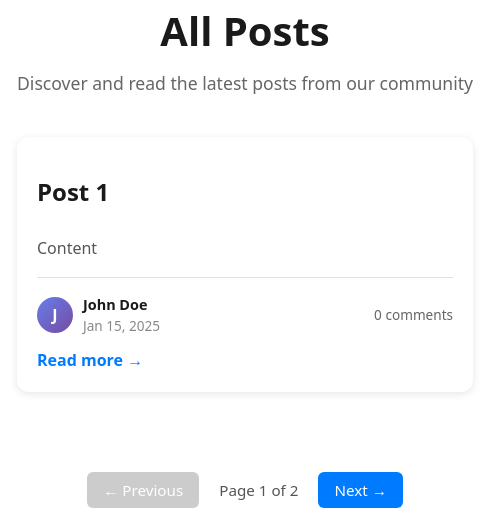
Test: PostsList Component › Pagination › should enable "Previous" button on pages after first
Expected: the heading "Post 1" is shown, x1=37 y1=176 x2=109 y2=208
Click the button "Next →".
click(361, 490)  # box x1=318 y1=472 x2=403 y2=508
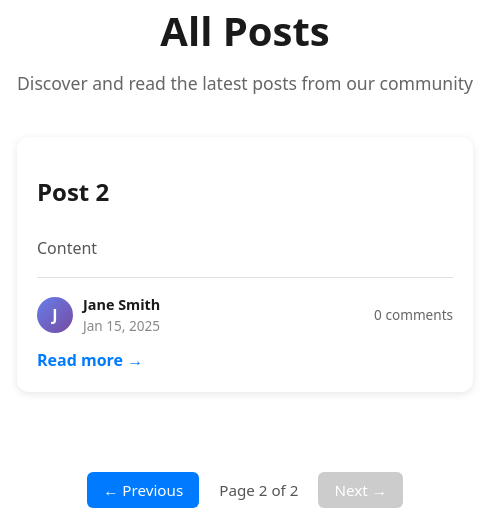
Expected: the button "← Previous" is enabled, x1=87 y1=472 x2=199 y2=508
